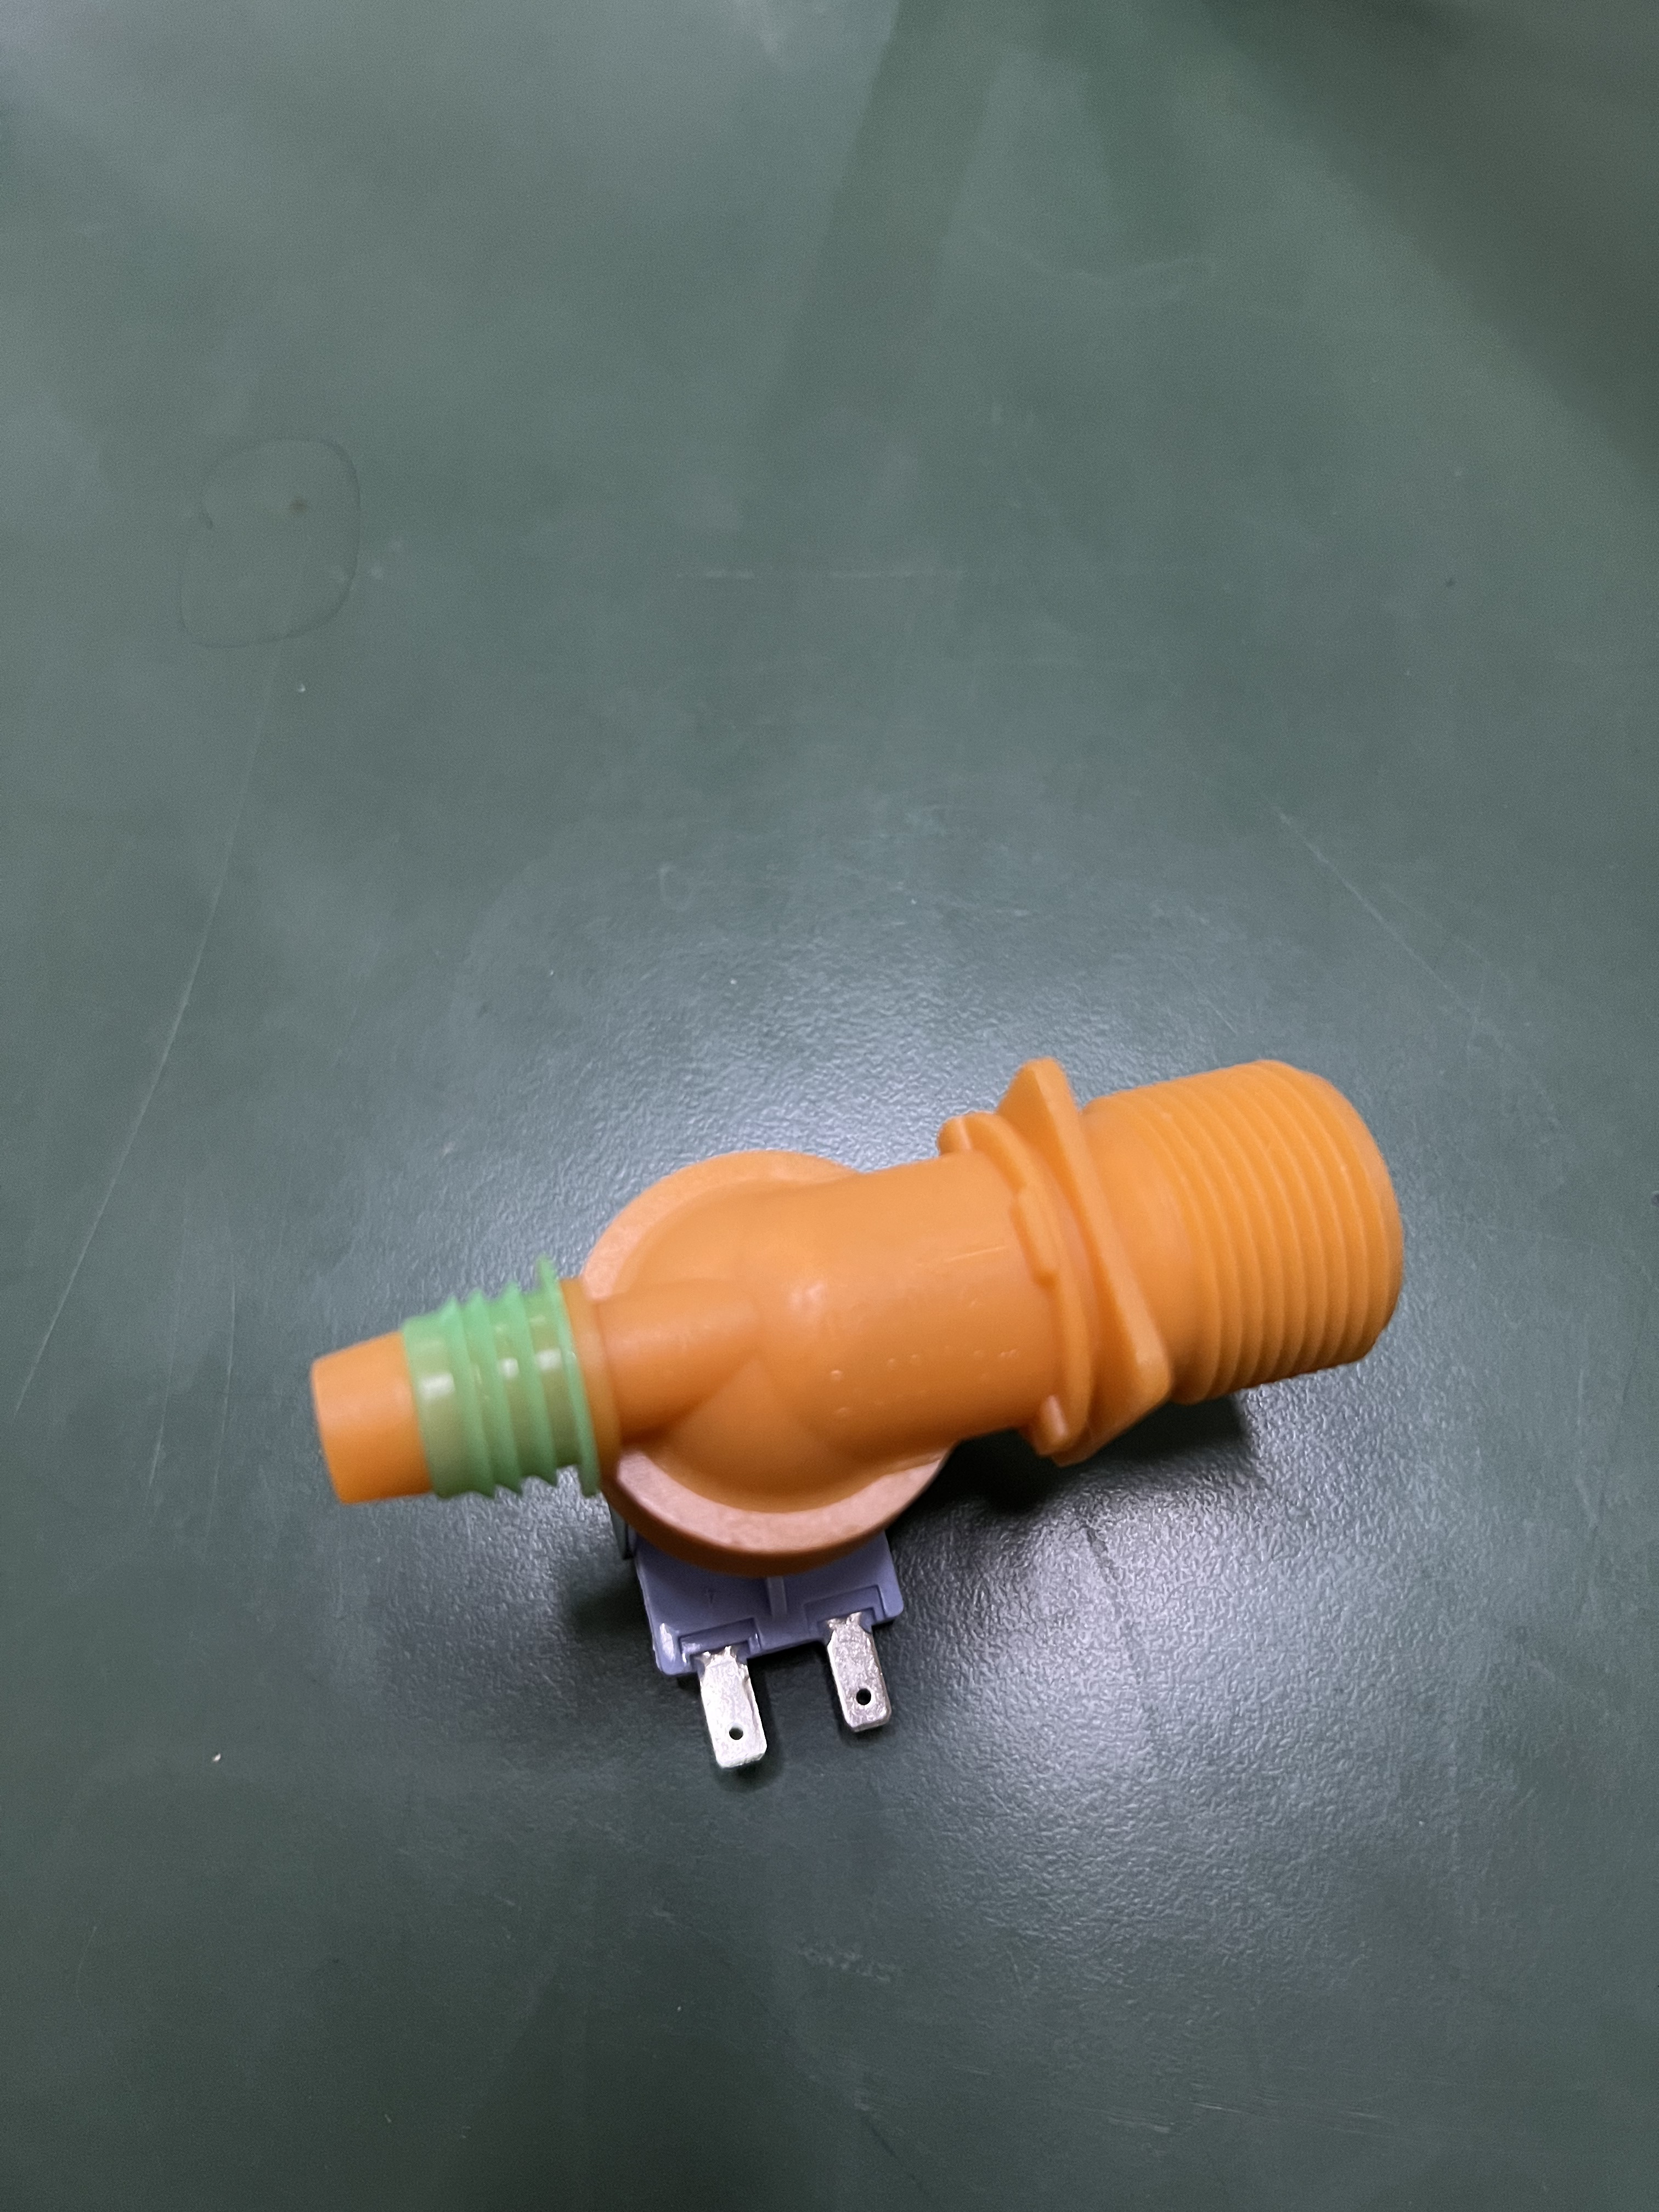ss_inlet_valves: (249, 1061, 1415, 1796)
